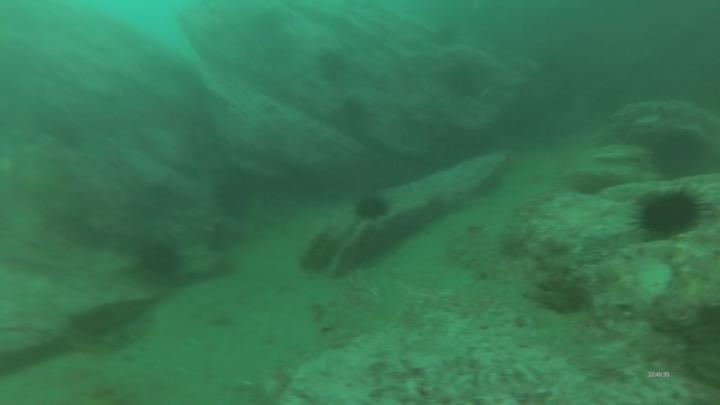echinus: (630, 186, 713, 244), (137, 238, 182, 285), (444, 60, 481, 95), (352, 193, 391, 223), (253, 7, 283, 41), (315, 48, 345, 80), (338, 96, 368, 127), (429, 25, 460, 50)
